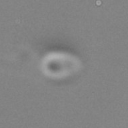normal: (1, 54, 39, 77)
